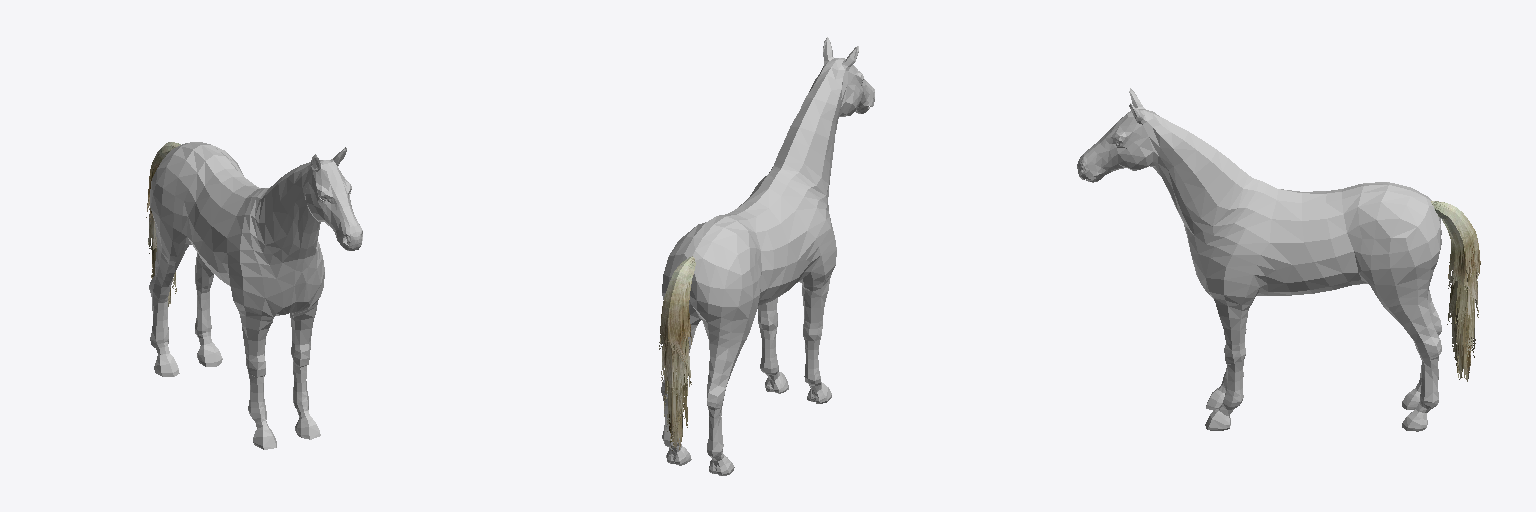
3 renders of one model, left to right at view 1: azimuth 30°, elevation 25°; view 2: azimuth 150°, elevation 25°; view 3: azimuth 270°, elevation 25°, orthographic.
Visible parts, largest first — view 1: Object_58, Object_56; view 2: Object_58, Object_56; view 3: Object_58, Object_56.
Boxes of the visible parts, x1,y1,x2,y2 form: Object_58: [149, 142, 362, 449]; Object_56: [146, 142, 180, 306]; Object_58: [661, 37, 874, 475]; Object_56: [659, 256, 695, 450]; Object_58: [1077, 88, 1441, 431]; Object_56: [1431, 201, 1480, 381].
Size of the model in its own units: 58.01 by 218 by 249.
Materials: 2 (1 with a texture image).